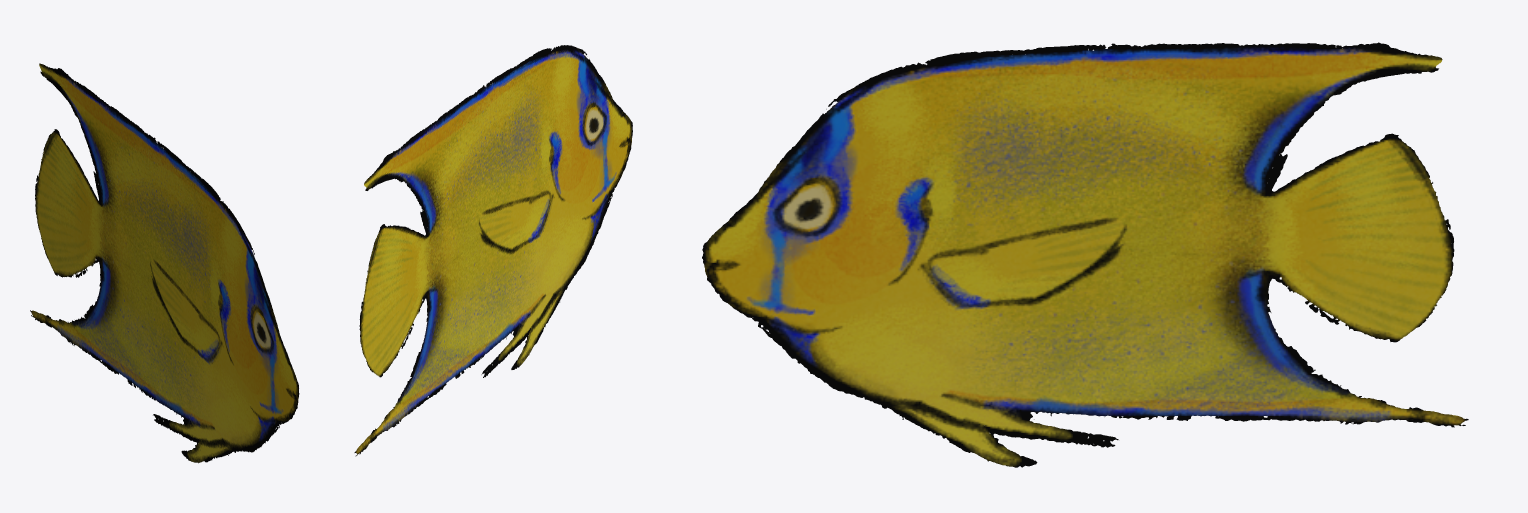
Rendered from fish1.fbx.
3 renders of one model, left to right at view 1: azimuth 30°, elevation 25°; view 2: azimuth 150°, elevation 25°; view 3: azimuth 270°, elevation 25°, orthographic. The views are drawn at different scales.
Parts seen in each view (by area): view 1: fish1; view 2: fish1; view 3: fish1.
Part boxes in pixels (box(x1,y1,x2,y2)): fish1: box(30, 63, 299, 463); fish1: box(354, 45, 632, 456); fish1: box(702, 42, 1468, 467).
Bounding box in the file's own units: 1.62e-05 × 100 × 157.
